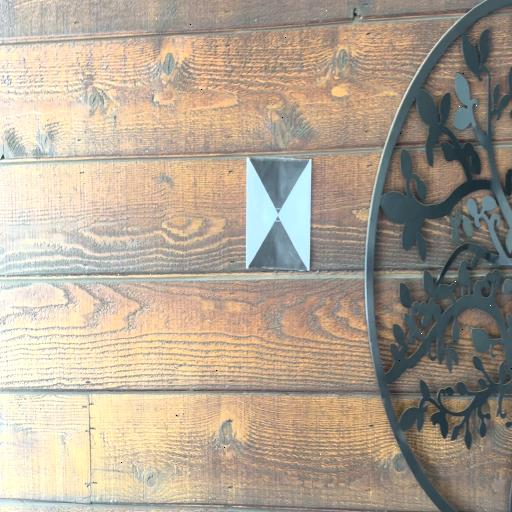target: (247, 159, 310, 269)
